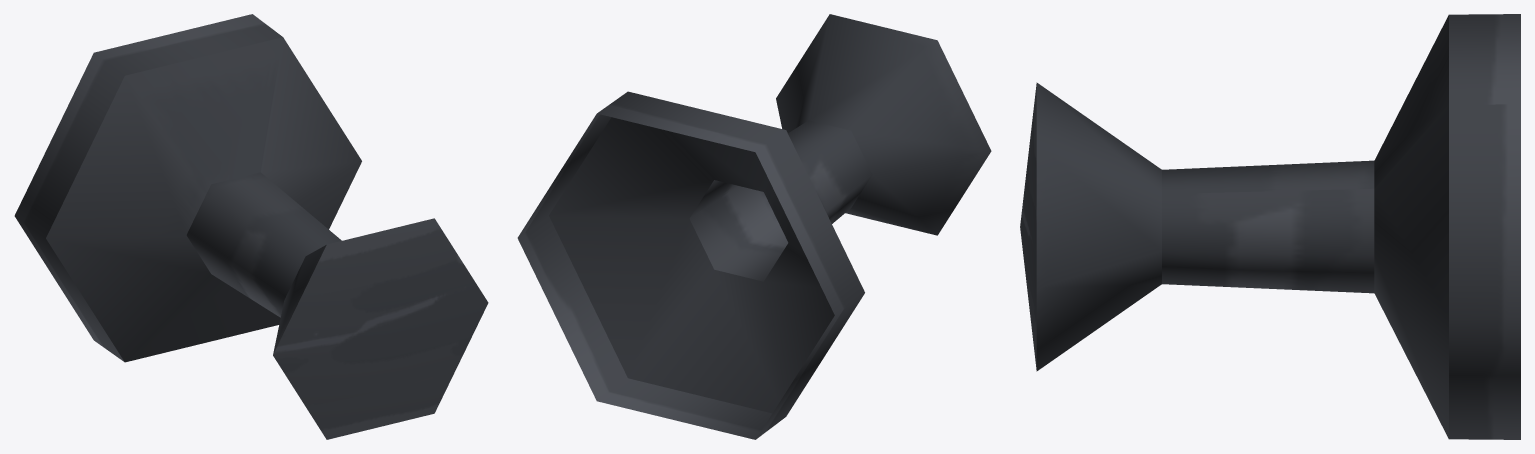
File: SM_PROP_hook_interior_03.fbx
The picture shows the model from 3 angles, left to right: view 1: azimuth 30°, elevation 25°; view 2: azimuth 150°, elevation 25°; view 3: azimuth 270°, elevation 25°; orthographic projection. The views are drawn at different scales.
Parts seen in each view (by area): view 1: SM_PROP_hook_interior_03; view 2: SM_PROP_hook_interior_03; view 3: SM_PROP_hook_interior_03.
Part boxes in pixels (x1,y1,x2,y2): SM_PROP_hook_interior_03: [14, 14, 488, 439]; SM_PROP_hook_interior_03: [517, 14, 991, 439]; SM_PROP_hook_interior_03: [1020, 14, 1520, 439].
Size of the model in its own units: 13.07 by 11.32 by 15.31.
